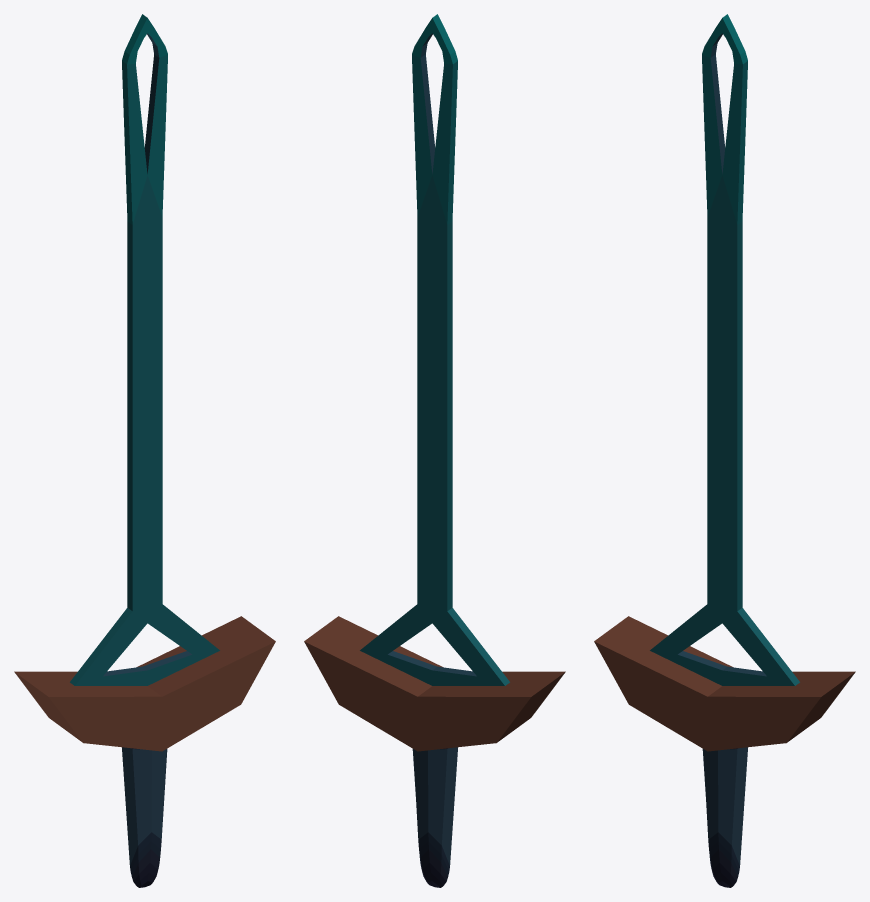
The model's file is Sword_2_Icon.fbx.
The picture shows the model from 3 angles, left to right: view 1: azimuth 30°, elevation 25°; view 2: azimuth 150°, elevation 25°; view 3: azimuth 330°, elevation 25°; orthographic projection.
Visible parts, largest first — view 1: Sword2_Icon; view 2: Sword2_Icon; view 3: Sword2_Icon.
Boxes of the visible parts, x1,y1,x2,y2 form: Sword2_Icon: (14, 14, 275, 887); Sword2_Icon: (304, 14, 565, 887); Sword2_Icon: (594, 14, 855, 887).
Size of the model in its own units: 39.82 by 146 by 10.47.
